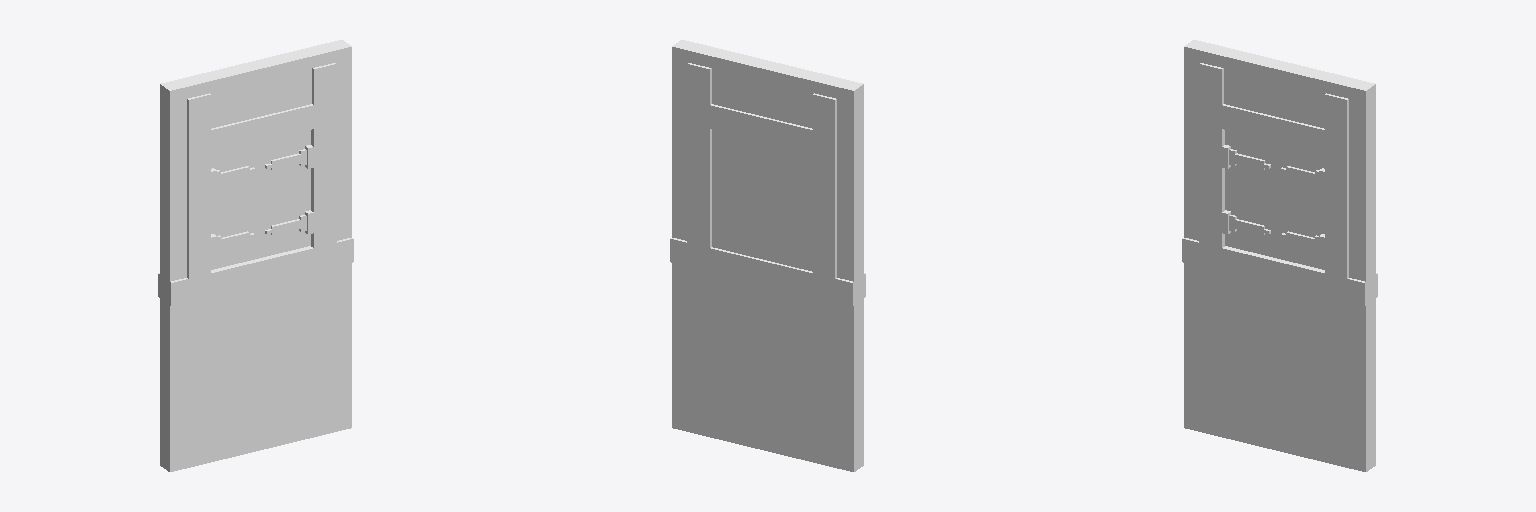
File: Window.obj
3 renders of one model, left to right at view 1: azimuth 30°, elevation 25°; view 2: azimuth 150°, elevation 25°; view 3: azimuth 330°, elevation 25°, orthographic.
Visible parts, largest first — view 1: Window_-1; view 2: Window_-1; view 3: Window_-1.
Part boxes in pixels (bbox=[...]): Window_-1: bbox=[158, 40, 353, 471]; Window_-1: bbox=[670, 40, 865, 471]; Window_-1: bbox=[1182, 40, 1377, 471].
Size of the model in its own units: 1 by 2 by 0.125.